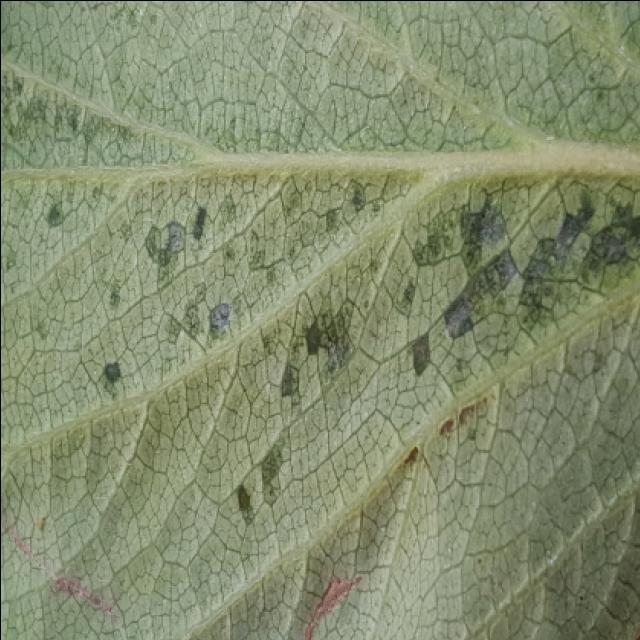Angular Leafspot: (0, 64, 638, 525)
